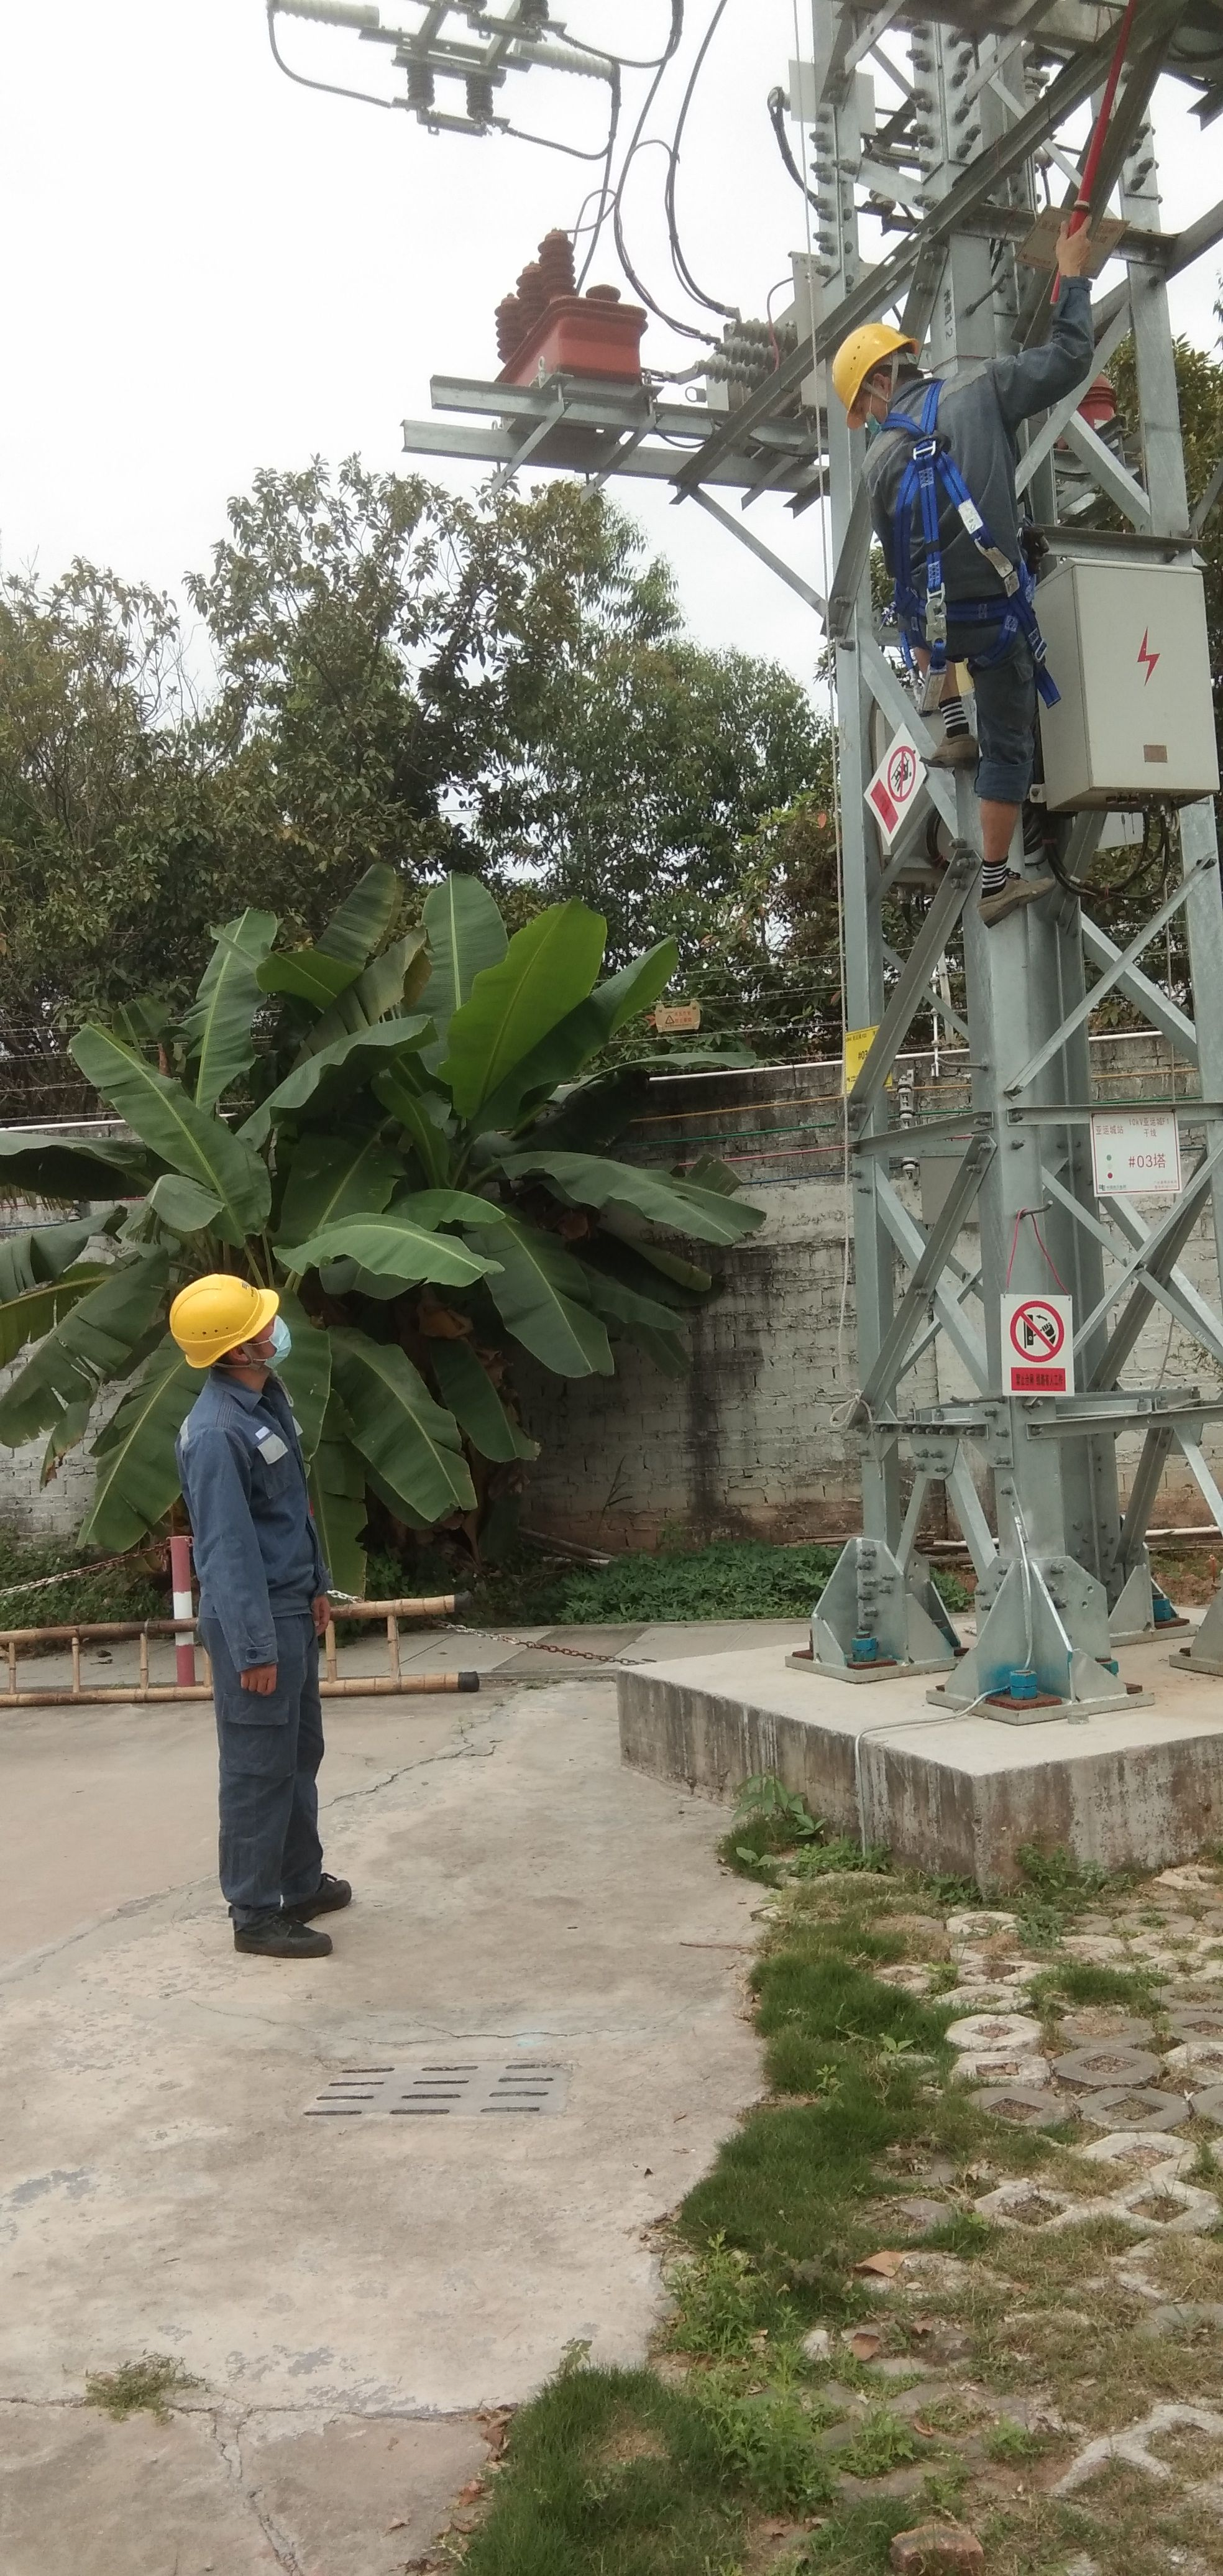downsuit: (208, 1640, 335, 1906), (913, 614, 1039, 815)
upsuit: (177, 1388, 327, 1621), (878, 396, 1019, 624)
wrongbottom: (972, 766, 1033, 877)
